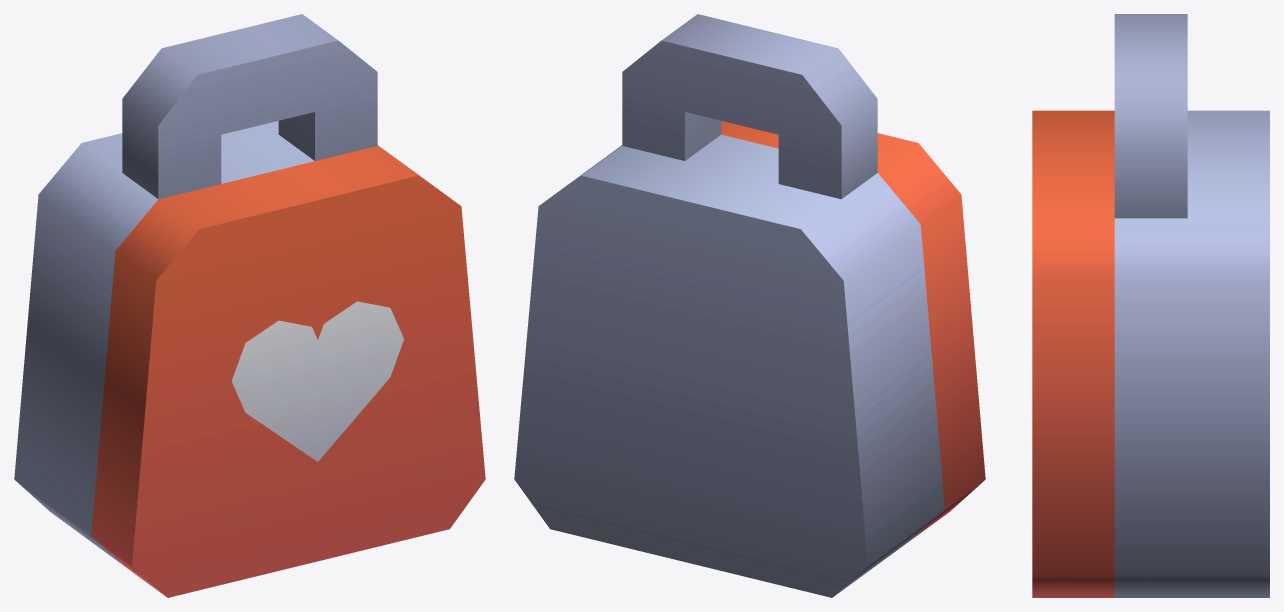
Rendered from aid-defibrillator-red.glb.
3 renders of one model, left to right at view 1: azimuth 30°, elevation 25°; view 2: azimuth 150°, elevation 25°; view 3: azimuth 270°, elevation 25°, orthographic.
Parts seen in each view (by area): view 1: aid-defibrillator-red, Group; view 2: aid-defibrillator-red; view 3: aid-defibrillator-red.
Part boxes in pixels (bbox=[...]): aid-defibrillator-red: bbox=[14, 14, 485, 597]; Group: bbox=[231, 301, 403, 461]; aid-defibrillator-red: bbox=[514, 14, 985, 597]; aid-defibrillator-red: bbox=[1032, 14, 1269, 597].
Size of the model in its own units: 0.2255 by 0.29 by 0.14.
1 material, 1 textured.
